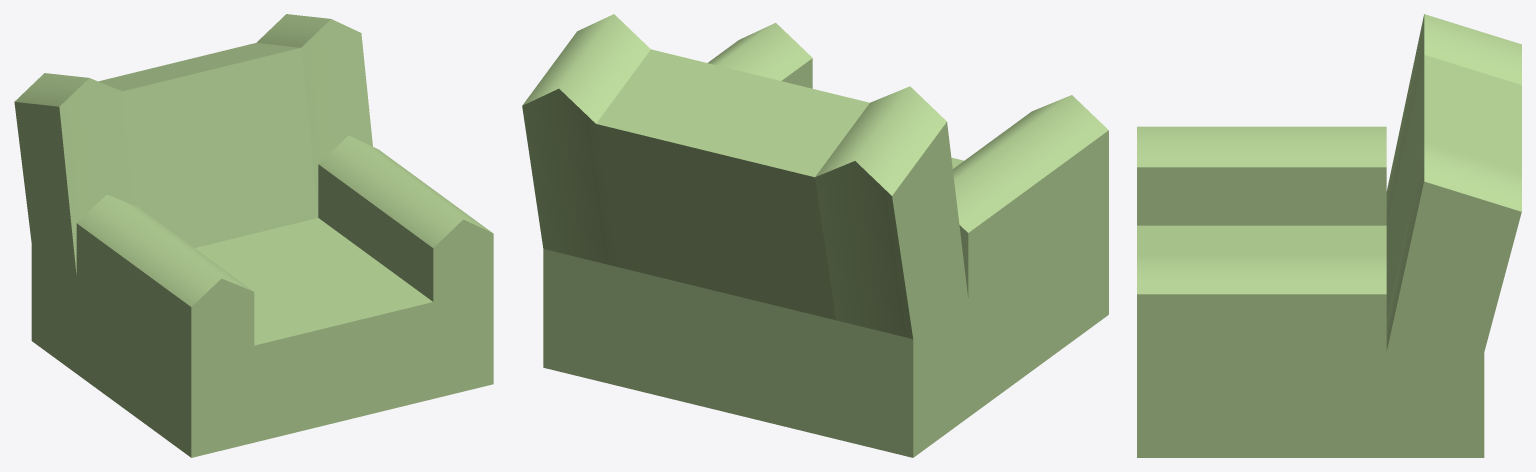
The model's file is armchair_01.fbx.
3 renders of one model, left to right at view 1: azimuth 30°, elevation 25°; view 2: azimuth 150°, elevation 25°; view 3: azimuth 270°, elevation 25°, orthographic. The views are drawn at different scales.
Visible parts, largest first — view 1: pCube246; view 2: pCube246; view 3: pCube246.
Part boxes in pixels (<box>): pCube246: <box>14,14,493,457</box>; pCube246: <box>522,14,1108,457</box>; pCube246: <box>1137,14,1521,457</box>.
Bounding box in the file's own units: 8.04 × 7.02 × 8.16.
